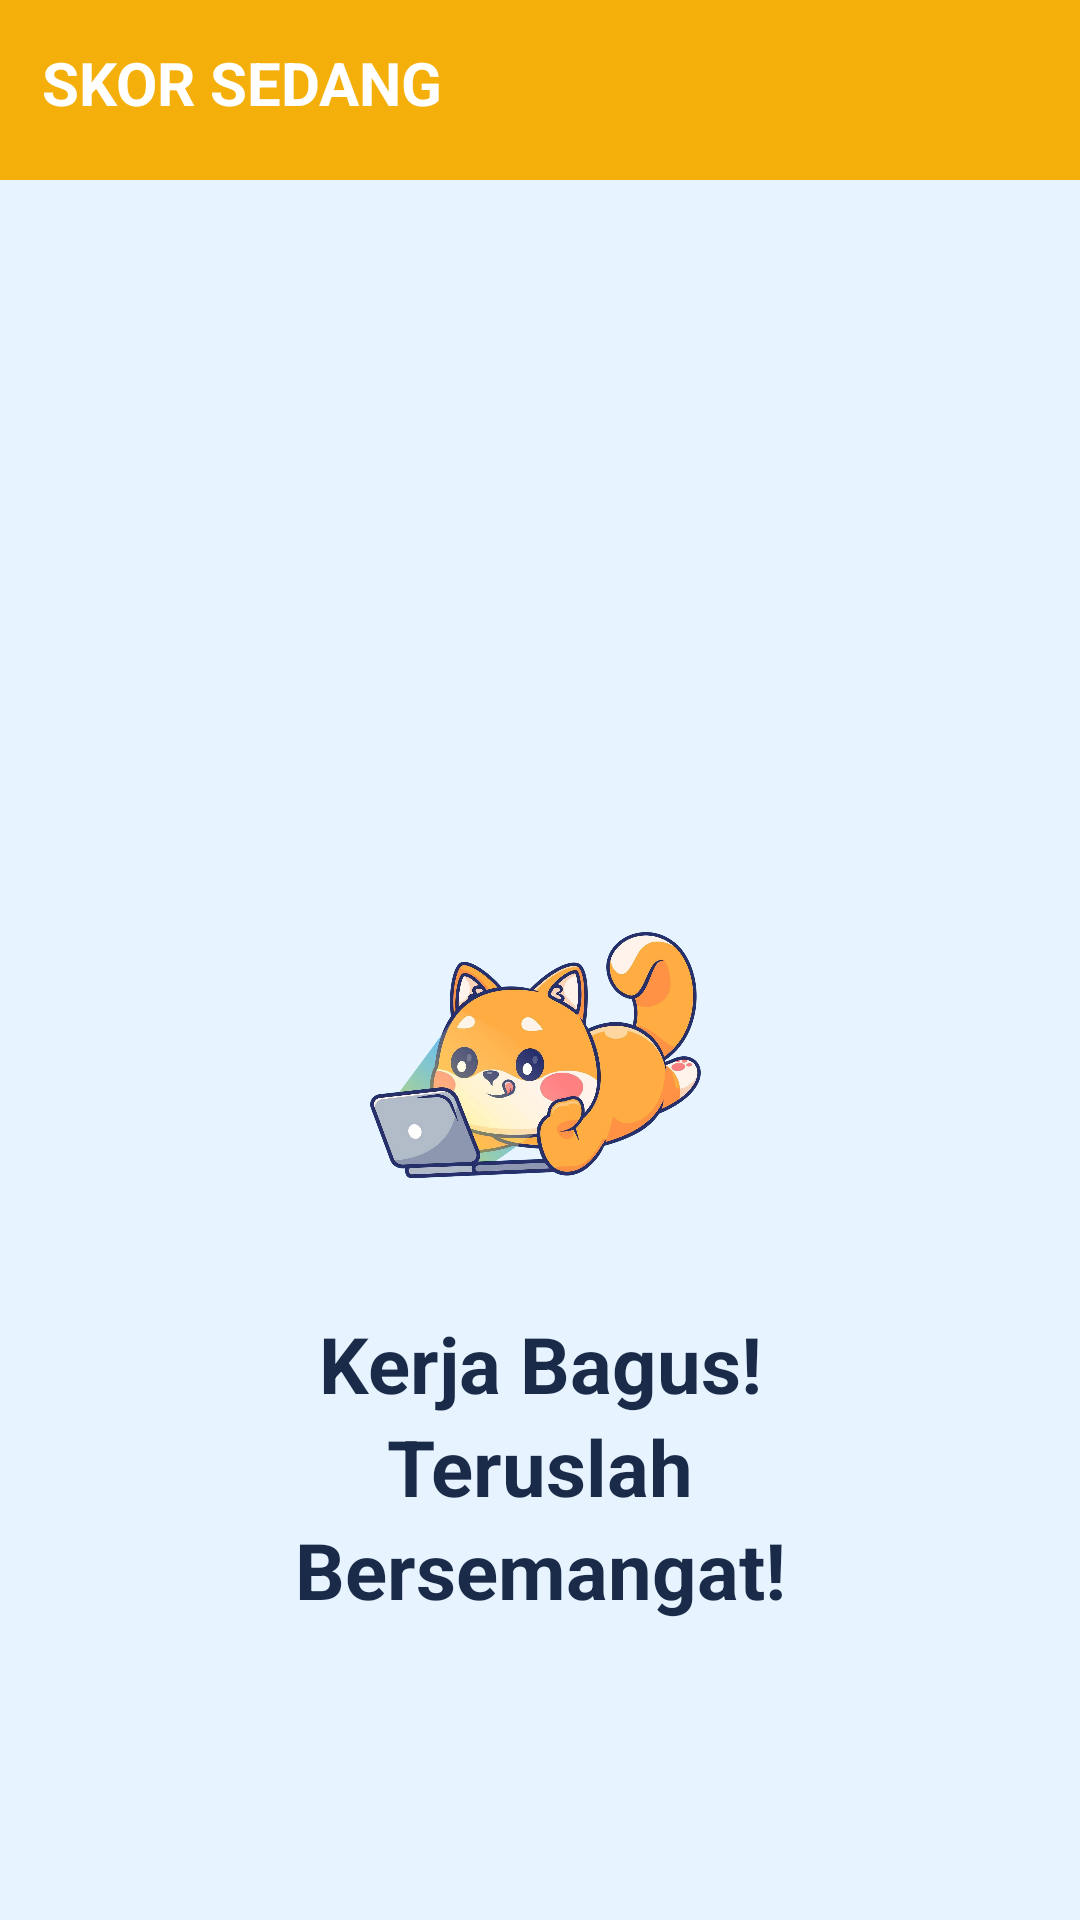

Named icons in this screenshot (1080 x 1920) and their centers, [x,y]:
maskot: [535,1055]
